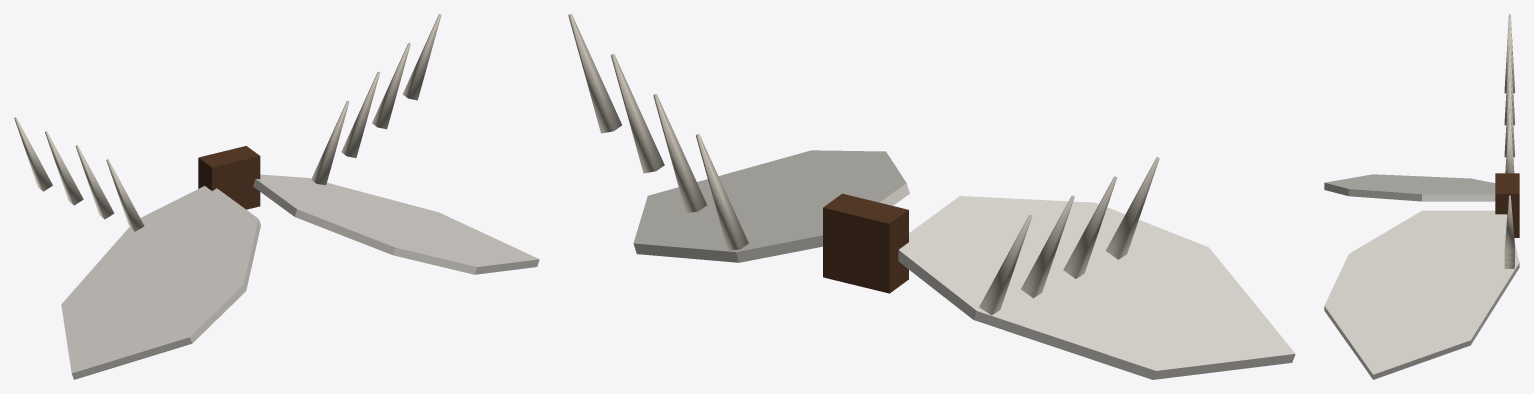
File: angel_wings.glb
The picture shows the model from 3 angles, left to right: view 1: azimuth 30°, elevation 25°; view 2: azimuth 150°, elevation 25°; view 3: azimuth 270°, elevation 25°; orthographic projection. The views are drawn at different scales.
Parts seen in each view (by area): view 1: angel_wings_v0; view 2: angel_wings_v0; view 3: angel_wings_v0.
Part boxes in pixels (x1=…): angel_wings_v0: x1=14, y1=14, x2=539, y2=379; angel_wings_v0: x1=568, y1=14, x2=1295, y2=379; angel_wings_v0: x1=1324, y1=14, x2=1519, y2=379.
Bounding box in the file's own units: 0.778 × 0.3185 × 0.32.
